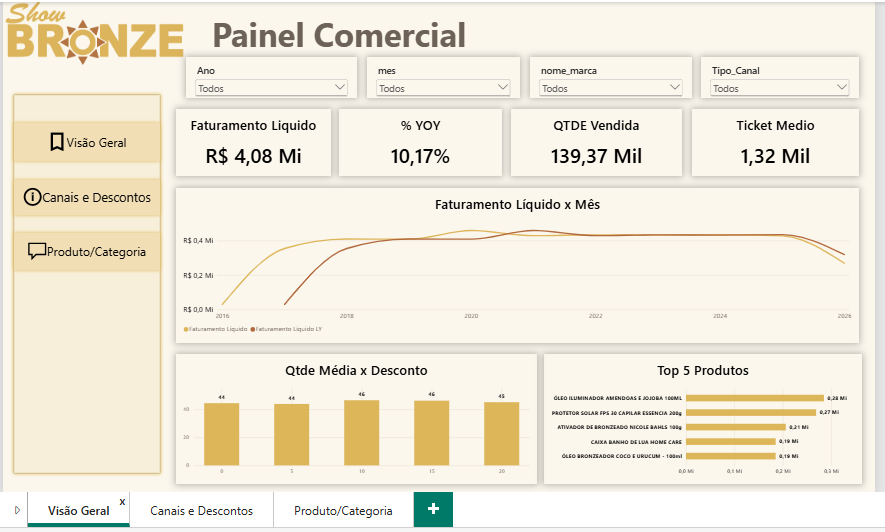

This screenshot's page, from the dashboard's own definition file:
{"tool":"powerbi","page":{"name":"Visão Geral","canvas":[1920,1080],"ordinal":0},"visuals":[{"type":"shape","box":[15.4,196.2,339.4,850.8],"z":0},{"type":"image","box":[0,0,403.3,138.9],"z":1000},{"type":"card","title":"Faturamento Liquido","fields":{"Values":["Medidas.Faturamento Líquido"]},"box":[381.3,235.8,341.6,147.7],"z":2000},{"type":"textbox","box":[447.4,22,586.3,99.2],"z":3000},{"type":"card","title":"% YOY","fields":{"Values":["Medidas.% YoY Faturamento"]},"box":[740.6,235.8,359.3,147.7],"z":4000},{"type":"card","title":"QTDE Vendida","fields":{"Values":["Medidas.Quantidade Vendida"]},"box":[1119.7,235.8,376.9,147.7],"z":5000},{"type":"card","title":"Ticket Medio","fields":{"Values":["Medidas.Ticket Médio"]},"box":[1518.6,235.8,368.1,147.7],"z":6000},{"type":"lineChart","title":"Faturamento Líquido x Mês","fields":{"Category":["dim_data.data_completa Hierarquia.Ano","dim_data.data_completa Hierarquia.mes","dim_data.data_completa Hierarquia.trimestre"],"Y":["Medidas.Faturamento Líquido","Medidas.Faturamento Líquido LY"]},"box":[381.3,410,1505.4,341.6],"z":7000},{"type":"clusteredBarChart","title":"Top 5 Produtos ","fields":{"Category":["dim_produto.nome_produto"],"Y":["Medidas.Top 5 Produtos"]},"box":[1192.4,775.8,700.9,286.5],"z":8000},{"type":"slicer","fields":{"Values":["dim_data.ano"]},"box":[403.3,121.2,376.9,90.4],"z":9000},{"type":"slicer","fields":{"Values":["dim_data.mes"]},"box":[802.3,121.2,337.2,90.4],"z":10000},{"type":"slicer","fields":{"Values":["dim_marca.nome_marca"]},"box":[1161.6,121.2,357.1,90.4],"z":11000},{"type":"slicer","fields":{"Values":["dim_loja.tipo_canal"]},"box":[1538.4,121.2,348.2,90.4],"z":12000},{"type":"clusteredColumnChart","title":"Qtde Média x Desconto","fields":{"Category":["fato_vendas.desconto_percentual"],"Y":["Medidas.Qtde Média por Venda"]},"box":[381.3,775.8,795.7,286.5],"z":13000},{"type":"actionButton","box":[15.4,257.9,339.4,101.4],"z":16000},{"type":"actionButton","box":[15.4,383.5,339.4,94.8],"z":16500},{"type":"actionButton","box":[15.4,500.3,339.4,99.2],"z":17000}]}

Visuals, with their boxes on the page's 1920x1080 design canvas (x1, y1, x2, y2). These are canvas units, not pixel positions in the 885x532 screenshot, which may show the page scaled, cropped or inside an application window:
shape: left=15, top=196, right=355, bottom=1047
image: left=0, top=0, right=403, bottom=139
"Faturamento Liquido" card: left=381, top=236, right=723, bottom=384
textbox: left=447, top=22, right=1034, bottom=121
"% YOY" card: left=741, top=236, right=1100, bottom=384
"QTDE Vendida" card: left=1120, top=236, right=1497, bottom=384
"Ticket Medio" card: left=1519, top=236, right=1887, bottom=384
"Faturamento Líquido x Mês" lineChart: left=381, top=410, right=1887, bottom=752
"Top 5 Produtos " clusteredBarChart: left=1192, top=776, right=1893, bottom=1062
slicer - dim_data.ano: left=403, top=121, right=780, bottom=212
slicer - dim_data.mes: left=802, top=121, right=1140, bottom=212
slicer - dim_marca.nome_marca: left=1162, top=121, right=1519, bottom=212
slicer - dim_loja.tipo_canal: left=1538, top=121, right=1887, bottom=212
"Qtde Média x Desconto" clusteredColumnChart: left=381, top=776, right=1177, bottom=1062
actionButton: left=15, top=258, right=355, bottom=359
actionButton: left=15, top=384, right=355, bottom=478
actionButton: left=15, top=500, right=355, bottom=600
